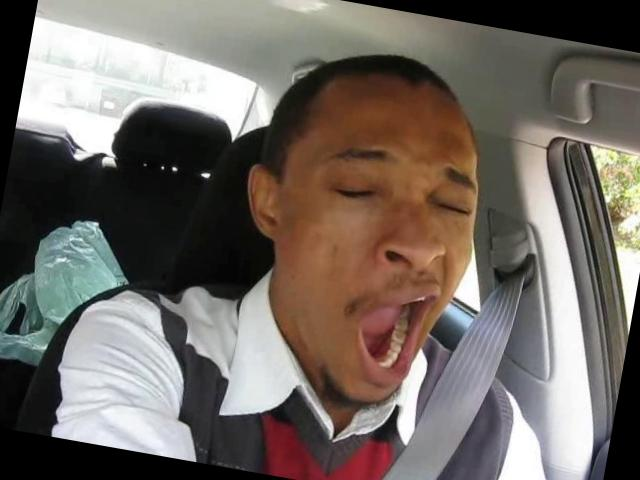eye_closed: (324, 172, 382, 212), (425, 189, 476, 224)
face: (263, 126, 494, 421)
mouth_open: (350, 278, 442, 380)
